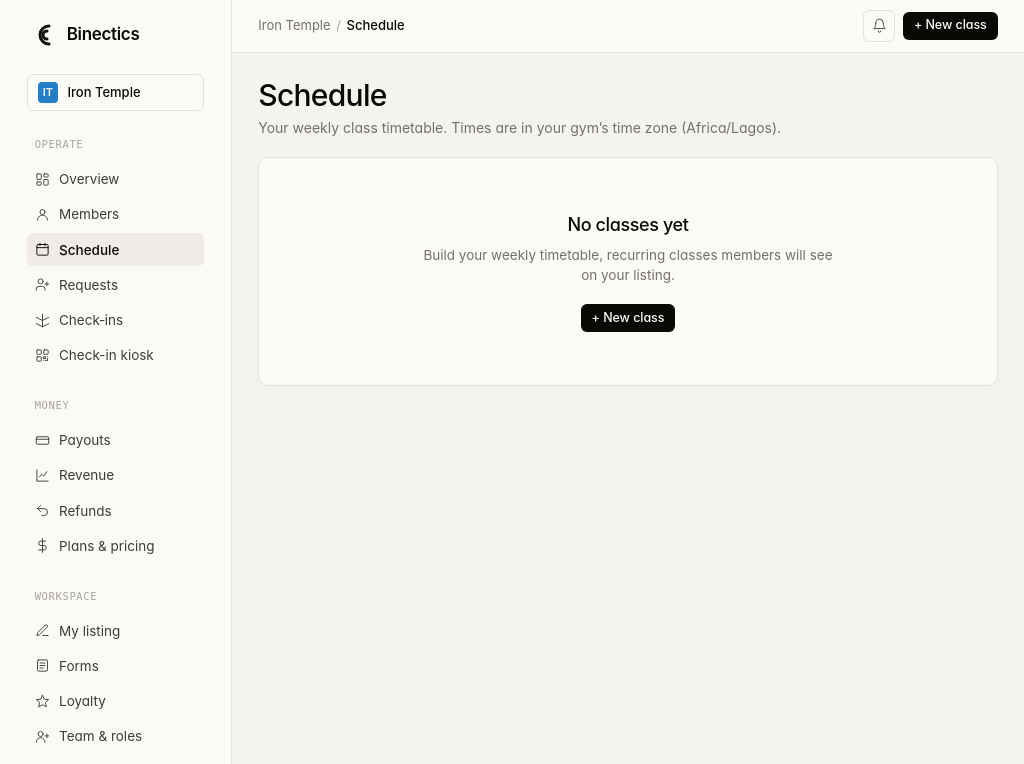
Test: Schedule on a plan without classes › tells a Free owner when they reach for + New class, before the form
The image size is (1024, 764).
Click the 1st button "+ New class".
click(950, 26)  # box top-left (903, 12), bottom-right (998, 40)
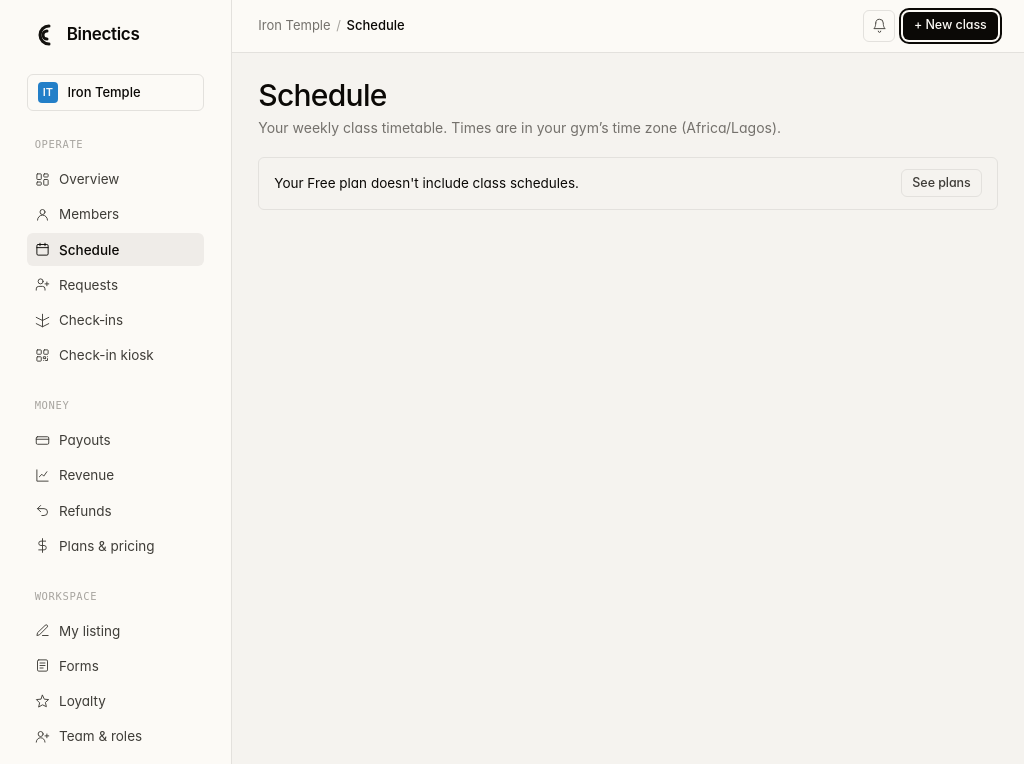
Now the message with test id "plan-gate" shows "Your Free plan doesn't include class schedules.", box top-left (274, 175), bottom-right (579, 191)
